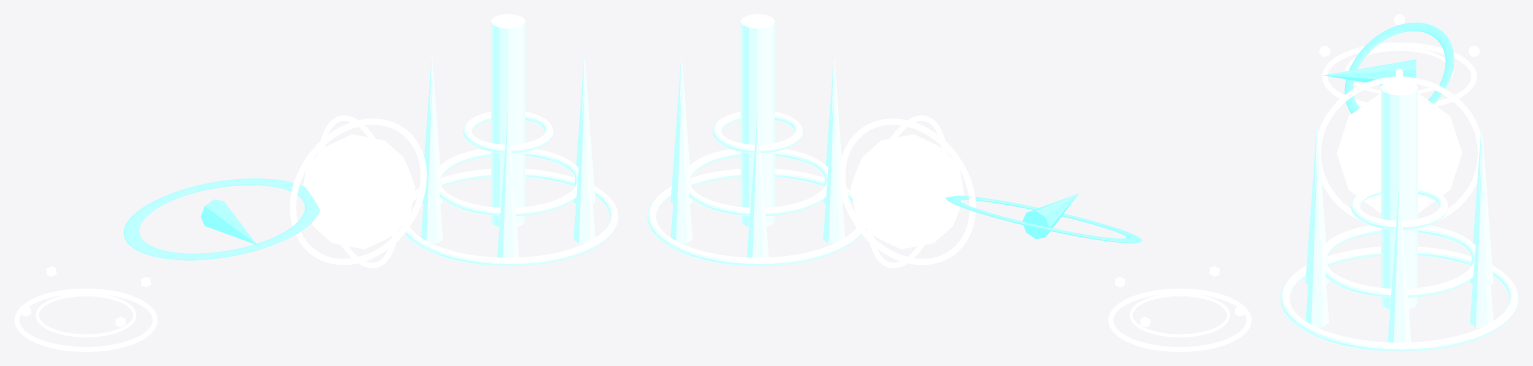
Rendered from olla_skills_vfx.glb.
The picture shows the model from 3 angles, left to right: view 1: azimuth 30°, elevation 25°; view 2: azimuth 150°, elevation 25°; view 3: azimuth 270°, elevation 25°; orthographic projection. The views are drawn at different scales.
Visible parts, largest first — view 1: VFX_Ultimate, VFX_Skill_2, VFX_Skill_1, VFX_Passive; view 2: VFX_Ultimate, VFX_Skill_2, VFX_Passive, VFX_Skill_1; view 3: VFX_Ultimate, VFX_Skill_2, VFX_Skill_1, VFX_Passive.
Part boxes in pixels (x1,y1,x2,y2): VFX_Ultimate: (400, 14, 618, 266); VFX_Skill_2: (290, 115, 426, 268); VFX_Skill_1: (123, 178, 319, 260); VFX_Passive: (14, 266, 157, 351); VFX_Ultimate: (647, 14, 865, 266); VFX_Skill_2: (839, 115, 975, 268); VFX_Passive: (1108, 266, 1251, 351); VFX_Skill_1: (945, 193, 1142, 243); VFX_Ultimate: (1280, 79, 1518, 351); VFX_Skill_2: (1318, 68, 1480, 220); VFX_Skill_1: (1324, 22, 1454, 113); VFX_Passive: (1319, 14, 1479, 106).
Size of the model in its own units: 8.55 by 2.88 by 2.81.
